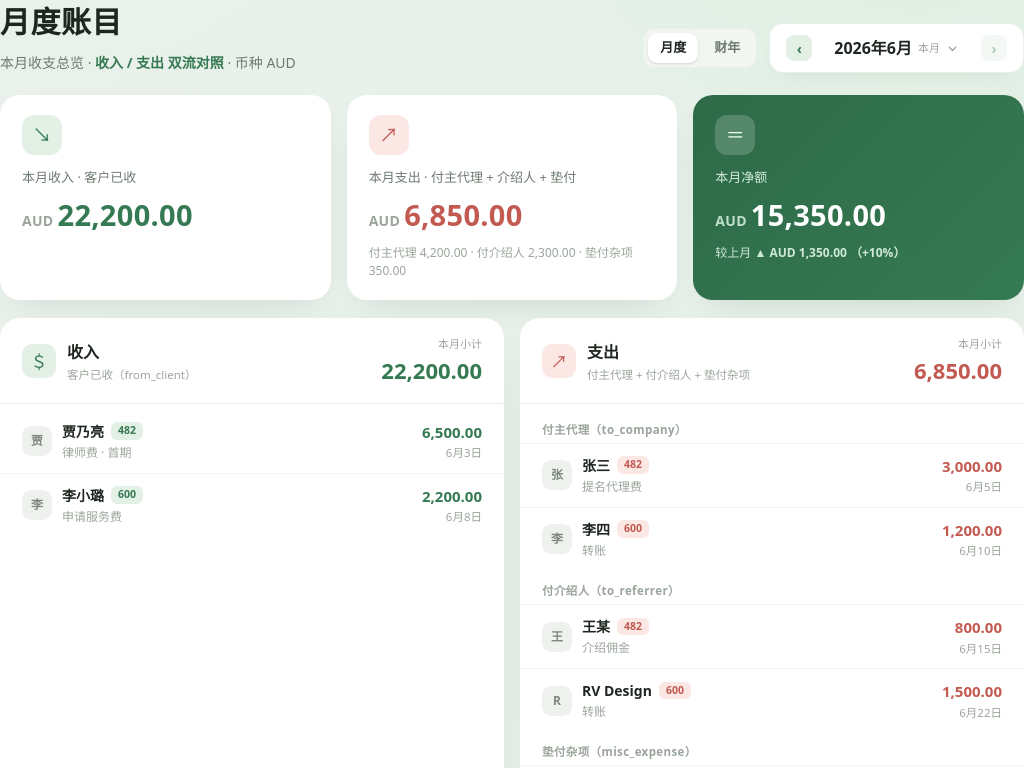
Test case: FinancePage · 月度 ↔ 财年 跟随联动 › 月→财：财年自动跳到包含所选月份的财年（picker 选 2025年6月 → 2024–25 财年）
Click the button with aria-label "选择月份".
click(897, 48)  # box [826,33,967,63]
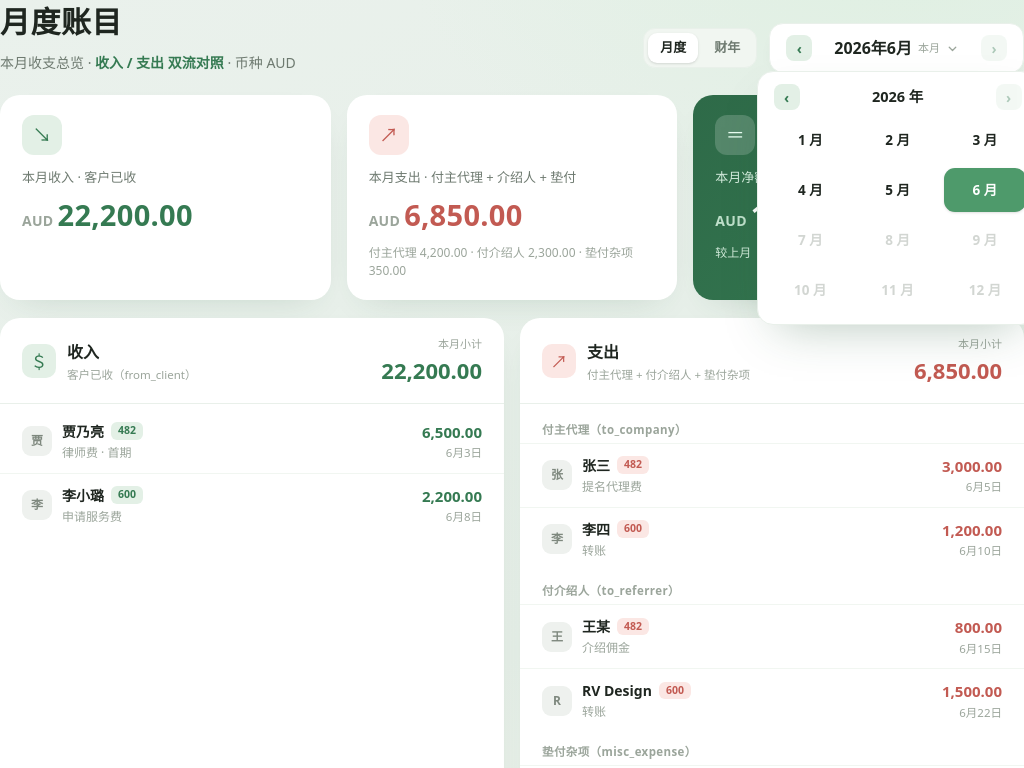
Click the button named "上一年".
click(787, 97)  # box [774,84,800,110]
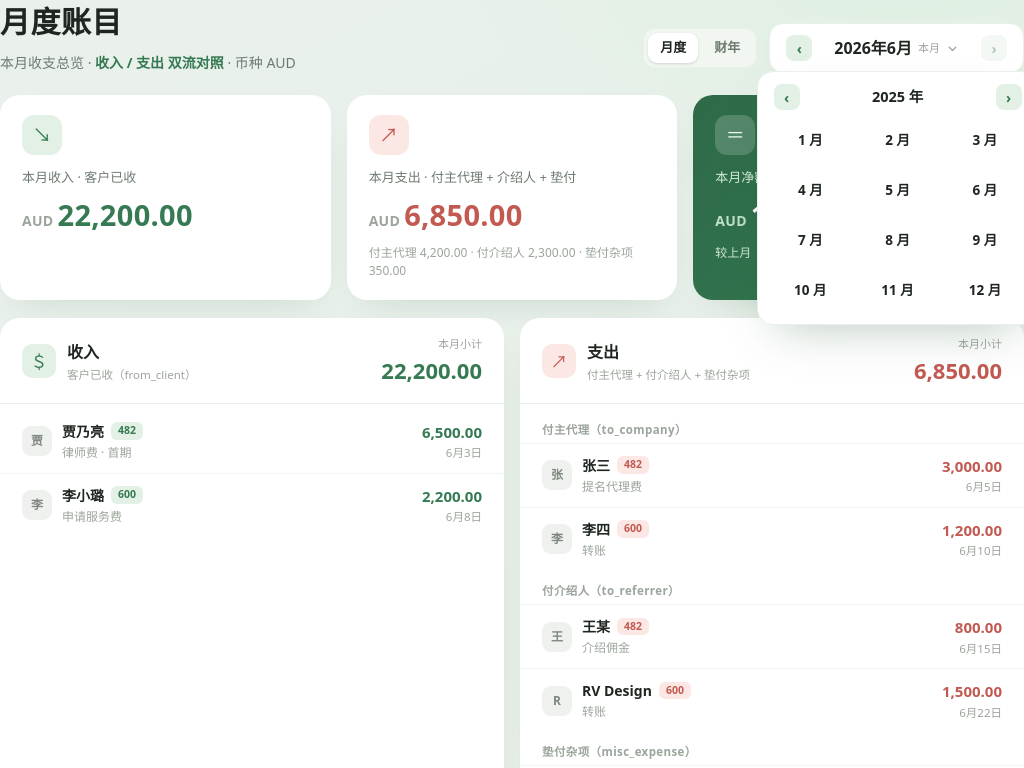
Click the button "6 月".
click(984, 190)  # box [944,168,1023,212]
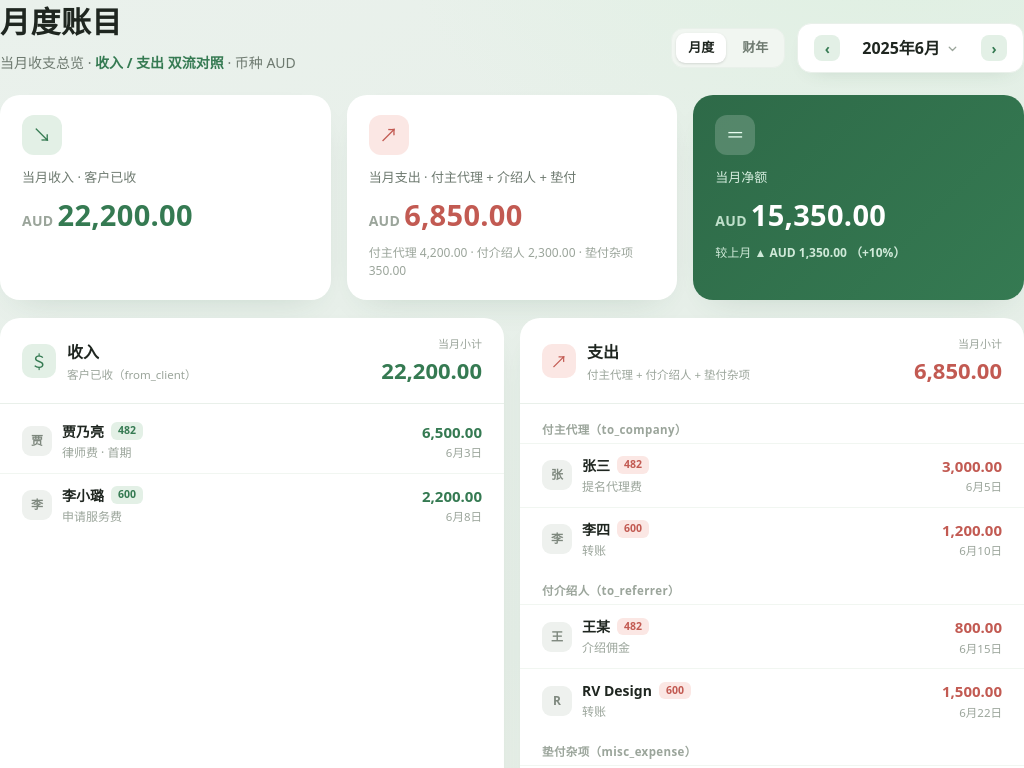
Check: the text "2025年6月" is shown, box [862,36,940,60]
Click the button "财年".
click(755, 48)  # box [730,33,780,63]
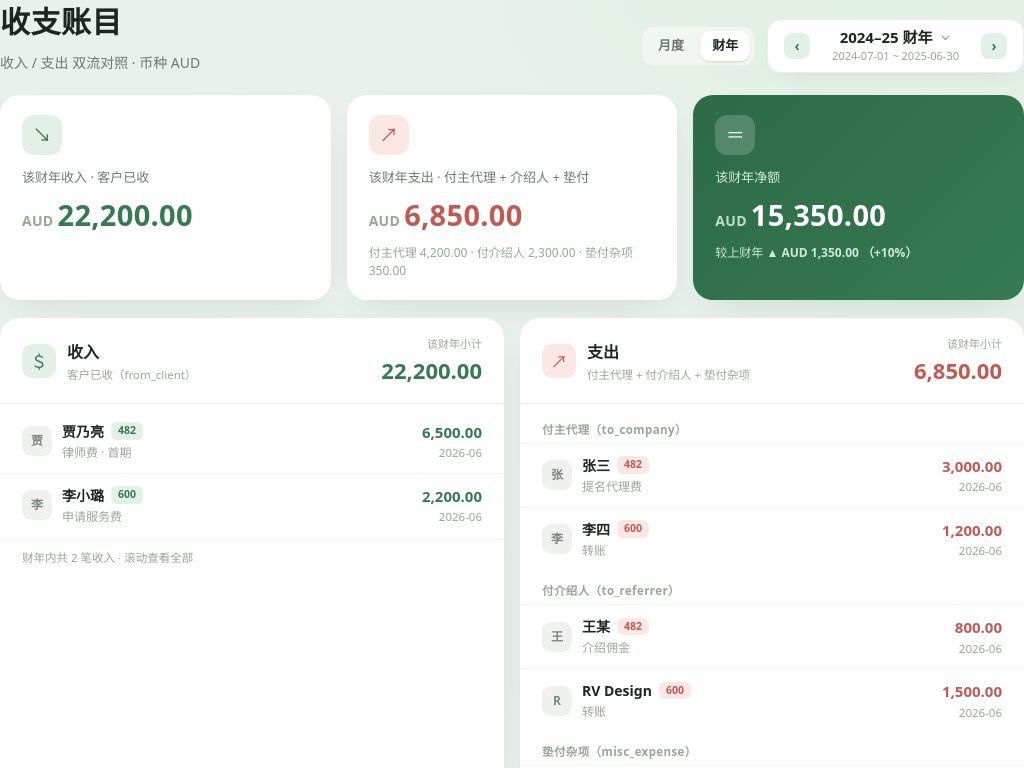
Check: the text "2024–25 财年" is shown, box [840,28,952,47]
